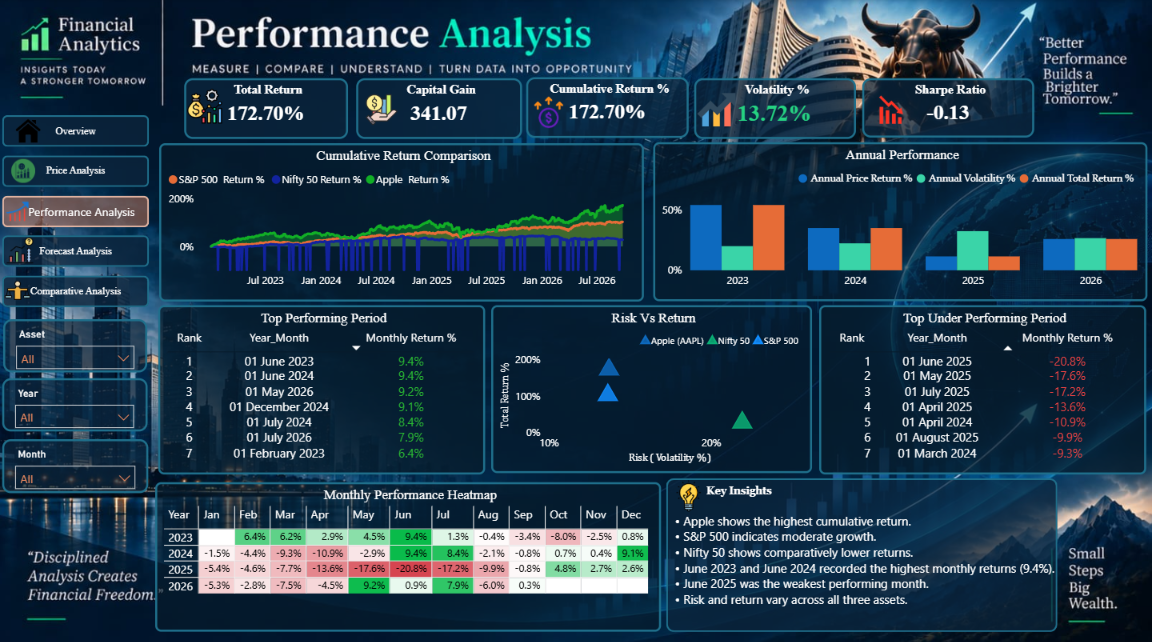

What the dashboard file says about the page in this screenshot:
{"tool":"powerbi","page":{"name":"Performance Analysis","canvas":[1352,758],"ordinal":2},"visuals":[{"type":"card","title":"   Sharpe Ratio","fields":{"Values":["Price Periods.Sharpe Ratio"]},"box":[1011,92.7,201.9,69.9],"z":0},{"type":"card","title":"Volatility %","fields":{"Values":["Price Periods.Volatility %"]},"box":[814.1,92.7,189.2,71.1],"z":1000},{"type":"card","title":"Total Return","fields":{"Values":["Price Periods.Selected Total Return %"]},"box":[217.2,92.7,191.8,71.1],"z":2000},{"type":"card","title":"Capital Gain","fields":{"Values":["Price Periods.Capital Gain"]},"box":[417.9,92.7,194.3,71.1],"z":3000},{"type":"card","title":"Cumulative Return %","fields":{"Values":["Price Periods.Cumulative Return %"]},"box":[617.3,91.4,190.5,71.1],"z":4000},{"type":"image","box":[424.2,100.3,48.3,57.2],"z":5000},{"type":"image","box":[812.9,100.3,54.6,57.2],"z":6000},{"type":"image","box":[215.9,94,50.8,63.5],"z":7000},{"type":"image","box":[619.8,106.7,48.3,52.1],"z":8000},{"type":"image","box":[1019.9,105.4,52.1,48.3],"z":9000},{"type":"pageNavigator","box":[3.8,135.9,172.7,229.9],"z":10000},{"type":"image","box":[0,210.8,43.2,74.9],"z":11000},{"type":"image","box":[3.8,268,41.9,52.1],"z":12000},{"type":"image","box":[8.9,166.4,38.1,69.9],"z":13000},{"type":"image","box":[5.1,116.9,58.4,74.9],"z":14000},{"type":"image","box":[0,303.6,43.2,74.9],"z":15000},{"type":"clusteredColumnChart","title":"Annual Performance","fields":{"Category":["Daily_Data.Date.Variation.Date Hierarchy.Year"],"Y":["Price Periods.Selected Annual Price Return %","Price Periods.Selected Annual Volatility %","Price Periods.Selected Annual Total Return %"]},"box":[765.9,167.7,579.2,186.7],"z":16000},{"type":"scatterChart","title":"Risk Vs Return","fields":{"Series":["Asset Selector.Asset"],"Size":["Daily_Data.NIFTY50 1Y Return %"],"X":["Price Periods.Volatility %"],"Y":["Price Periods.Selected Total Return %"]},"box":[576.6,358.2,376,196.9],"z":17000},{"type":"tableEx","title":"Top Performing Period","fields":{"Values":["Price Periods.Rank Number","Daily_Data.Year_Month","Price Periods.Average Monthly Return %"]},"box":[186.7,358.2,383.6,198.1],"z":18000},{"type":"shape","box":[781.1,561.4,458.5,180.4],"z":19000},{"type":"textbox","box":[776,561.4,475,174],"z":20000},{"type":"image","box":[783.7,558.9,48.3,47],"z":21000},{"type":"slicer","title":" Current Price ","fields":{"Values":["Daily_Data.Year"]},"box":[3.8,444.5,170.2,62.2],"z":22000},{"type":"slicer","title":" Current Price ","fields":{"Values":["Daily_Data.Month"]},"box":[3.8,515.7,171.5,63.5],"z":23000},{"type":"slicer","title":" Current Price ","fields":{"Values":["Asset Selector.Asset"]},"box":[5.1,374.7,168.9,62.2],"z":24000},{"type":"areaChart","title":"Cumulative Return Comparison","fields":{"Category":["Daily_Data.Date"],"Y":["Price Periods.S&P 500 Cumulative Return %","Price Periods.Nifty 50 Cumulative Return %","Price Periods.Apple Cumulative Return %"]},"box":[188,168.9,567.7,185.4],"z":25000},{"type":"pivotTable","title":"Monthly Performance Heatmap","fields":{"Columns":["Daily_Data.Month Short"],"Rows":["Daily_Data.Year_Month.Variation.Date Hierarchy.Year"],"Values":["Price Periods.Average Monthly Return %"]},"box":[182.9,566.5,593.1,175.3],"z":26000},{"type":"tableEx","title":"Top Under Performing Period","fields":{"Values":["Price Periods.Under performing Rank","Daily_Data.Year_Month","Price Periods.Average Monthly Return %"]},"box":[961.5,358.2,383.6,198.1],"z":27000}]}

Visuals, with their boxes in screenshot pixels (x1, y1, x2, y2), scaled from the page's 1352x758 canvas onto the 1152x642 screenshot:
"   Sharpe Ratio" card: [861, 79, 1033, 138]
"Volatility %" card: [694, 79, 855, 139]
"Total Return" card: [185, 79, 348, 139]
"Capital Gain" card: [356, 79, 522, 139]
"Cumulative Return %" card: [526, 77, 688, 138]
image: [361, 85, 403, 133]
image: [693, 85, 739, 133]
image: [184, 80, 227, 133]
image: [528, 90, 569, 134]
image: [869, 89, 913, 130]
pageNavigator: [3, 115, 150, 310]
image: [0, 179, 37, 242]
image: [3, 227, 39, 271]
image: [8, 141, 40, 200]
image: [4, 99, 54, 162]
image: [0, 257, 37, 321]
"Annual Performance" clusteredColumnChart: [653, 142, 1146, 300]
"Risk Vs Return" scatterChart: [491, 303, 812, 470]
"Top Performing Period" tableEx: [159, 303, 486, 471]
shape: [666, 475, 1056, 628]
textbox: [661, 475, 1066, 623]
image: [668, 473, 709, 513]
" Current Price " slicer: [3, 376, 148, 429]
" Current Price " slicer: [3, 437, 149, 491]
" Current Price " slicer: [4, 317, 148, 370]
"Cumulative Return Comparison" areaChart: [160, 143, 644, 300]
"Monthly Performance Heatmap" pivotTable: [156, 480, 661, 628]
"Top Under Performing Period" tableEx: [819, 303, 1146, 471]
